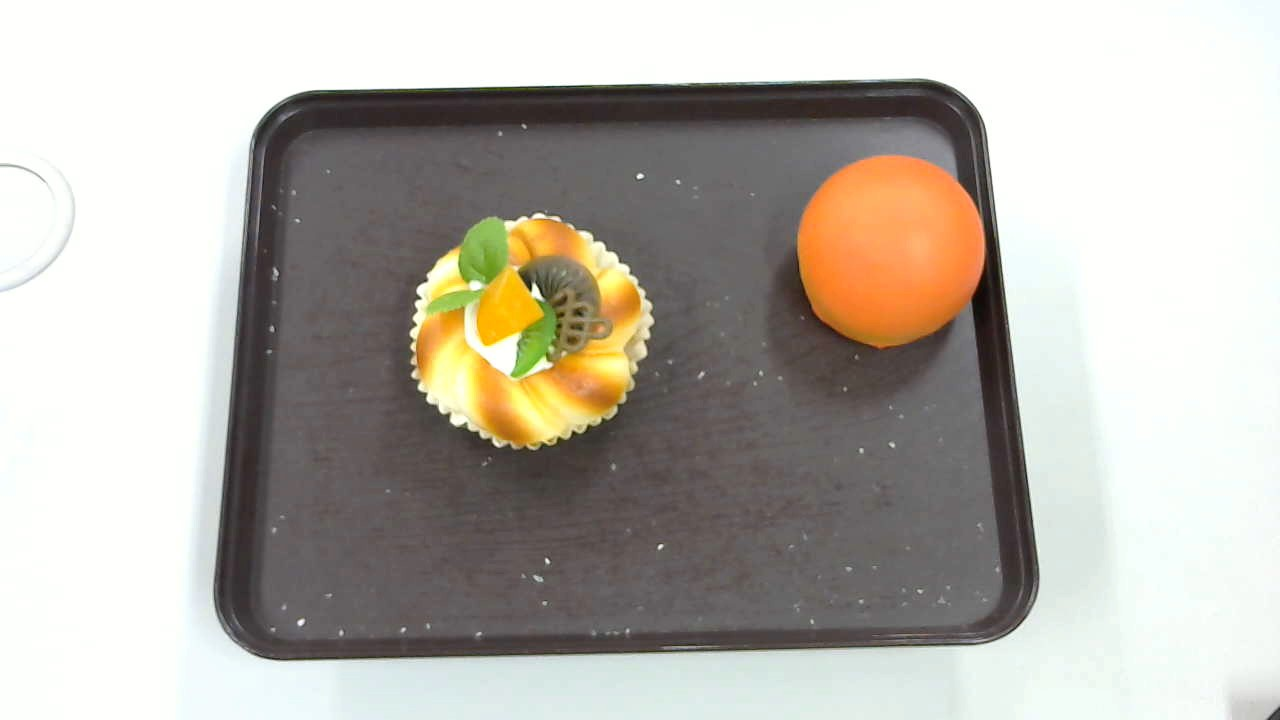bun: (796, 155, 984, 348)
fruit tart: (408, 213, 654, 451)
